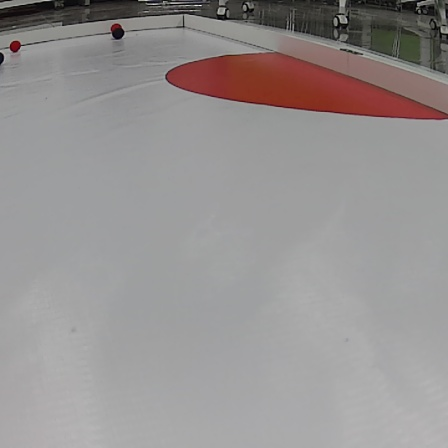black: (111, 29, 125, 40), (0, 51, 5, 66)
red: (8, 40, 18, 51), (109, 22, 123, 27)
